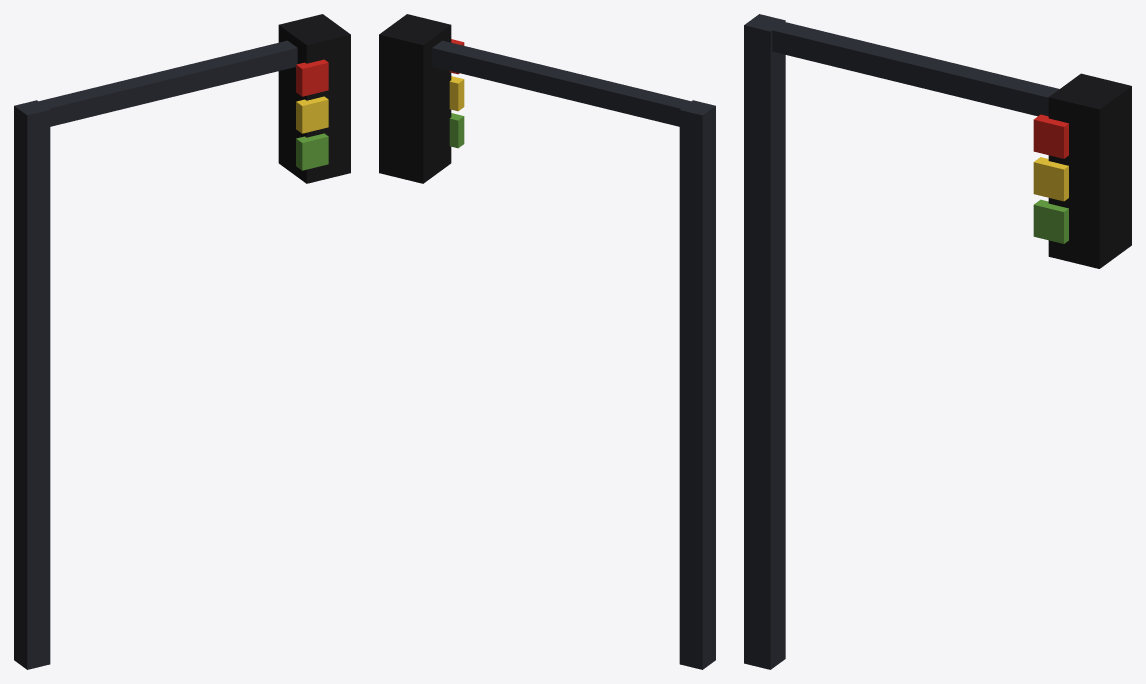
The model's file is semaforo.obj.
3 renders of one model, left to right at view 1: azimuth 30°, elevation 25°; view 2: azimuth 150°, elevation 25°; view 3: azimuth 330°, elevation 25°, orthographic. The views are drawn at different scales.
Visible parts, largest first — view 1: semaforo; view 2: semaforo; view 3: semaforo.
Boxes of the visible parts, left/top/right/bottom form: semaforo: left=14, top=14, right=350, bottom=669; semaforo: left=379, top=14, right=715, bottom=669; semaforo: left=744, top=14, right=1131, bottom=669.
Bounding box in the file's own units: 3.58 × 6.1 × 0.635.
